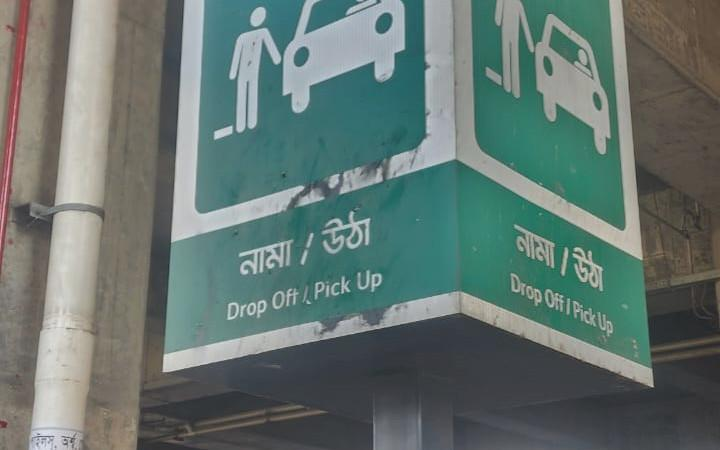Metro Dorp Up Pick up: (163, 0, 650, 403)
